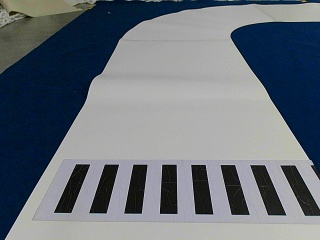crosswalk: (56, 165, 319, 215)
